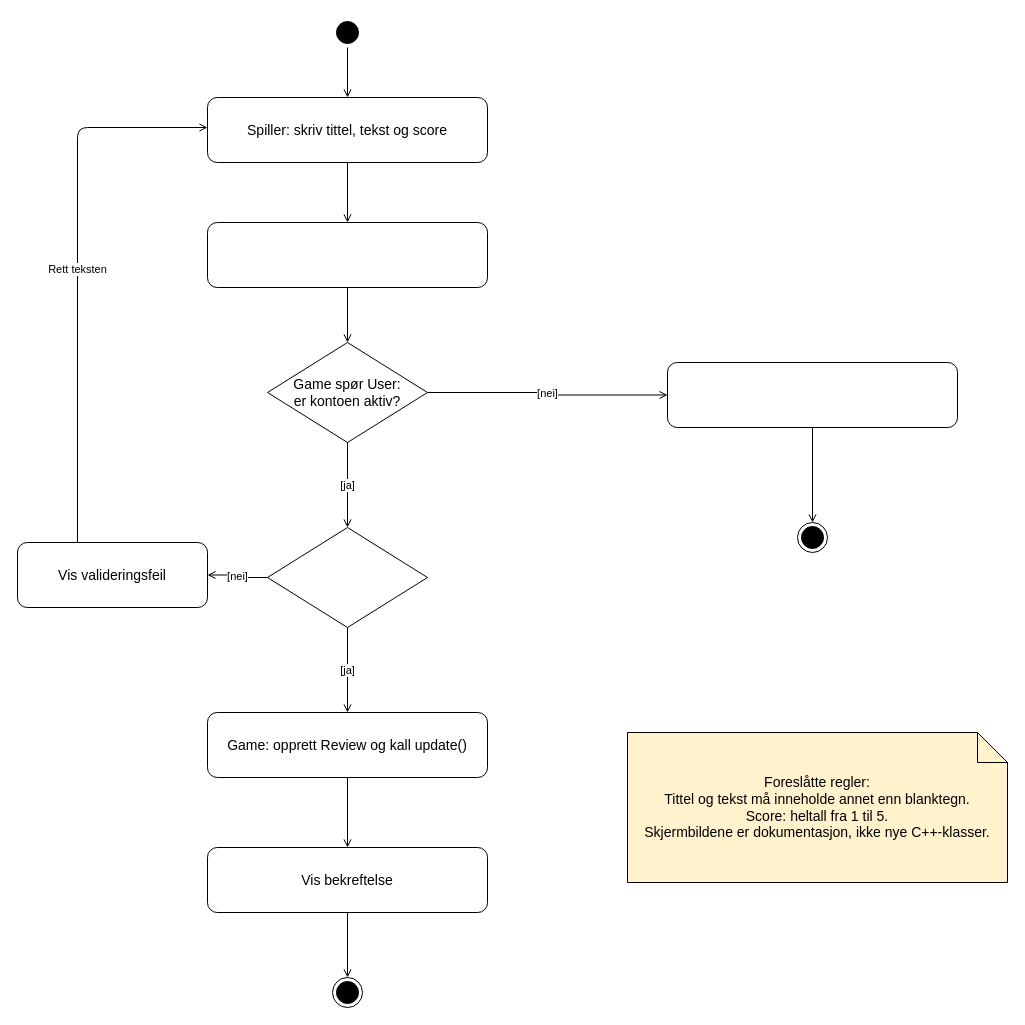
This 1025x1025 diagram has some shape labels left out. Each missing label, with the centre of its shape:
"Game: gyldig tekst og score?" belongs at (347,577).
"Spiller: send anmeldelse" belongs at (347,255).
"Vis at kontoen ikke kan publisere" belongs at (812,395).
